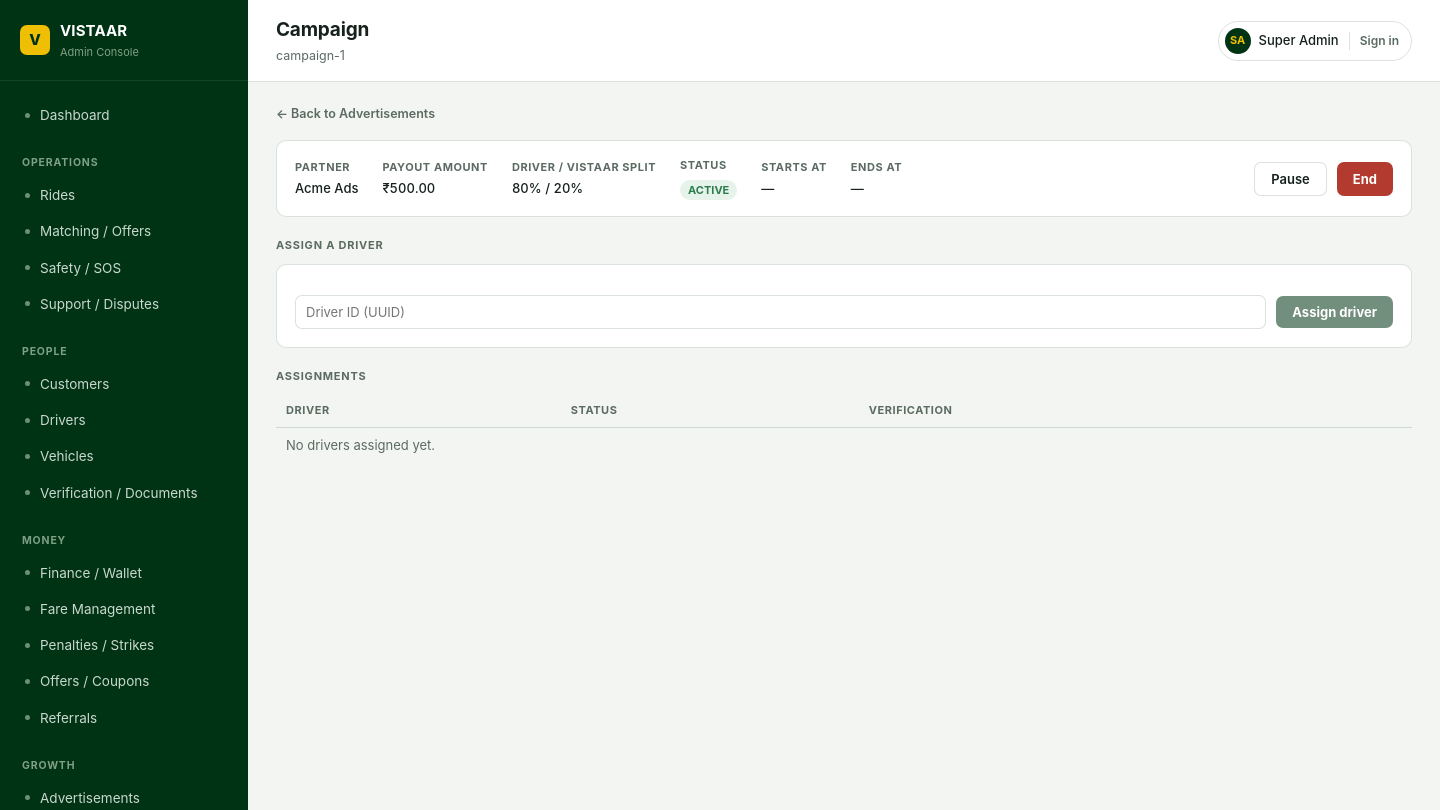
CampaignDetailPage › pauses an ACTIVE campaign
Click the button "Pause".
click(1291, 178)  # box [1254,162,1327,196]
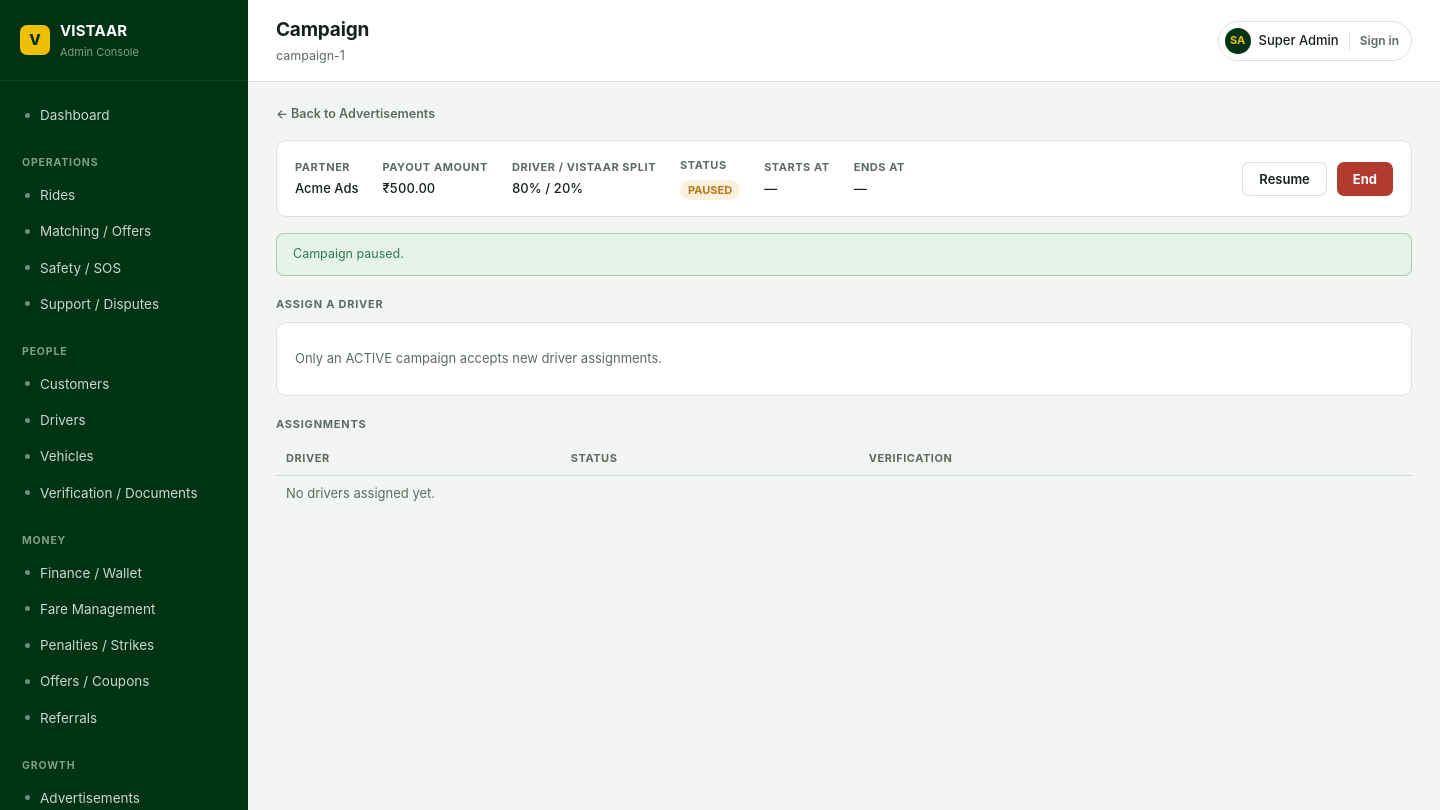
Expected: the text "Campaign paused." is shown, [276,233,1412,276]
